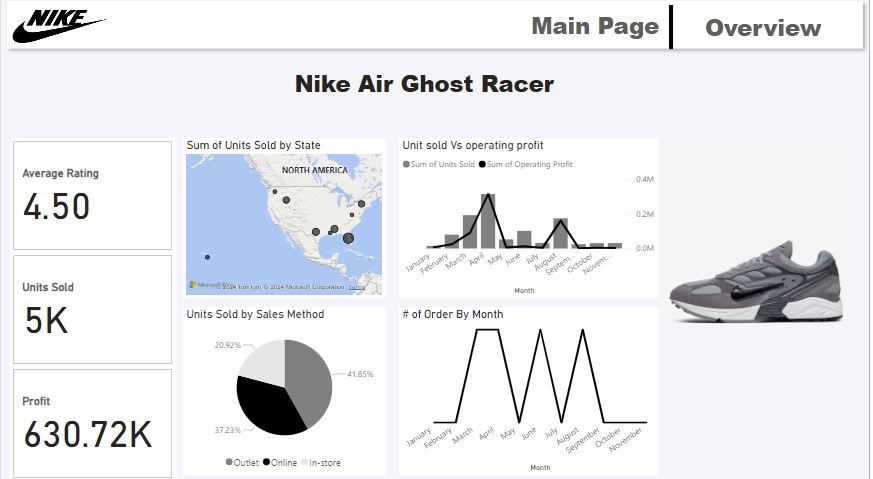

This screenshot's page, from the dashboard's own definition file:
{"tool":"powerbi","page":{"name":"Preformance","canvas":[1280,720],"ordinal":2},"visuals":[{"type":"cardVisual","fields":{"Data":["Table.Product Name"]},"box":[948.2,199.1,331.8,290.5],"z":0},{"type":"actionButton","box":[0,0,1280,87.8],"z":1000},{"type":"actionButton","box":[12.8,11,146.3,64],"z":2000},{"type":"card","fields":{"Values":["Table.Product Name"]},"box":[357.7,96.9,531,67.1],"z":4000},{"type":"cardVisual","fields":{"Data":["in.Rating","Data Sales Nike.Units Sold","Data Sales Nike.Operating Profit"]},"box":[13.3,210.9,244.8,508.8],"z":5000},{"type":"map","fields":{"Category":["Data Sales Nike.State","Data Sales Nike.City"],"Size":["Data Sales Nike.Units Sold"]},"box":[268.4,210.9,299.4,235.9],"z":6000},{"type":"pieChart","fields":{"Category":["Data Sales Nike.Sales Method"],"Y":["Data Sales Nike.Units Sold"]},"box":[268.4,460.1,299.4,247.7],"z":7000},{"type":"lineChart","title":"# of Order By Month","fields":{"Category":["Table 2.Date.Variation.Date Hierarchy.Month"],"Y":["Data Sales Nike.Invoice Date"]},"box":[586.9,460.1,381.9,247.7],"z":8000},{"type":"lineStackedColumnComboChart","title":"Unit sold Vs operating profit","fields":{"Category":["Table 2.Date.Variation.Date Hierarchy.Month"],"Y":["Data Sales Nike.Units Sold"],"Y2":["Data Sales Nike.Operating Profit"]},"box":[586.9,210.9,381.9,235.9],"z":9000},{"type":"actionButton","box":[752.7,16.8,247.8,52.2],"z":11000},{"type":"actionButton","box":[1000.5,18.6,247.8,52.2],"z":12000},{"type":"shape","box":[952.1,14.9,70.8,65],"z":13000}]}

Visuals, with their boxes in screenshot pixels (x1, y1, x2, y2), scaled from the page's 1280x720 canvas onto the 873x479 screenshot:
cardVisual - Table.Product Name: region(647, 132, 872, 326)
actionButton: region(0, 0, 872, 58)
actionButton: region(9, 7, 109, 50)
card - Table.Product Name: region(244, 64, 606, 109)
cardVisual - in.Rating x Data Sales Nike.Units Sold: region(9, 140, 176, 478)
map - Data Sales Nike.State x Data Sales Nike.City: region(183, 140, 387, 297)
pieChart - Data Sales Nike.Sales Method x Data Sales Nike.Units Sold: region(183, 306, 387, 471)
"# of Order By Month" lineChart: region(400, 306, 661, 471)
"Unit sold Vs operating profit" lineStackedColumnComboChart: region(400, 140, 661, 297)
actionButton: region(513, 11, 682, 46)
actionButton: region(682, 12, 851, 47)
shape: region(649, 10, 698, 53)
